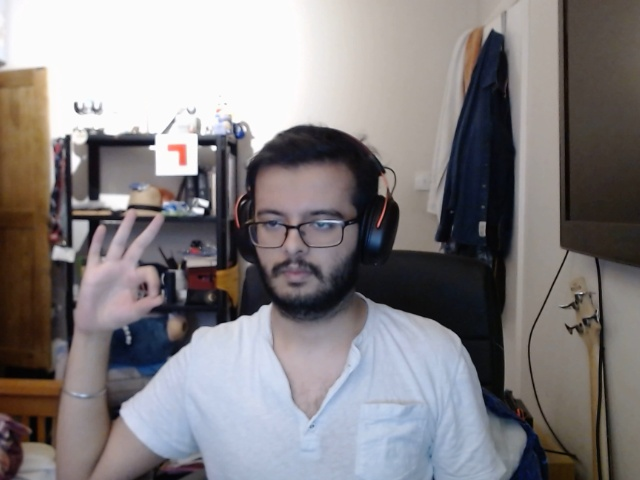Okay: (69, 206, 173, 342)
